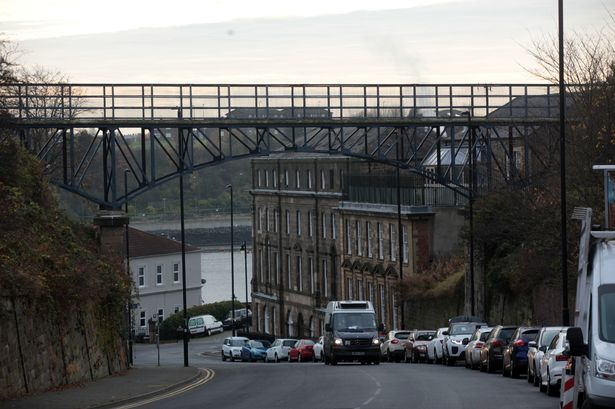bridge: (2, 78, 569, 216)
